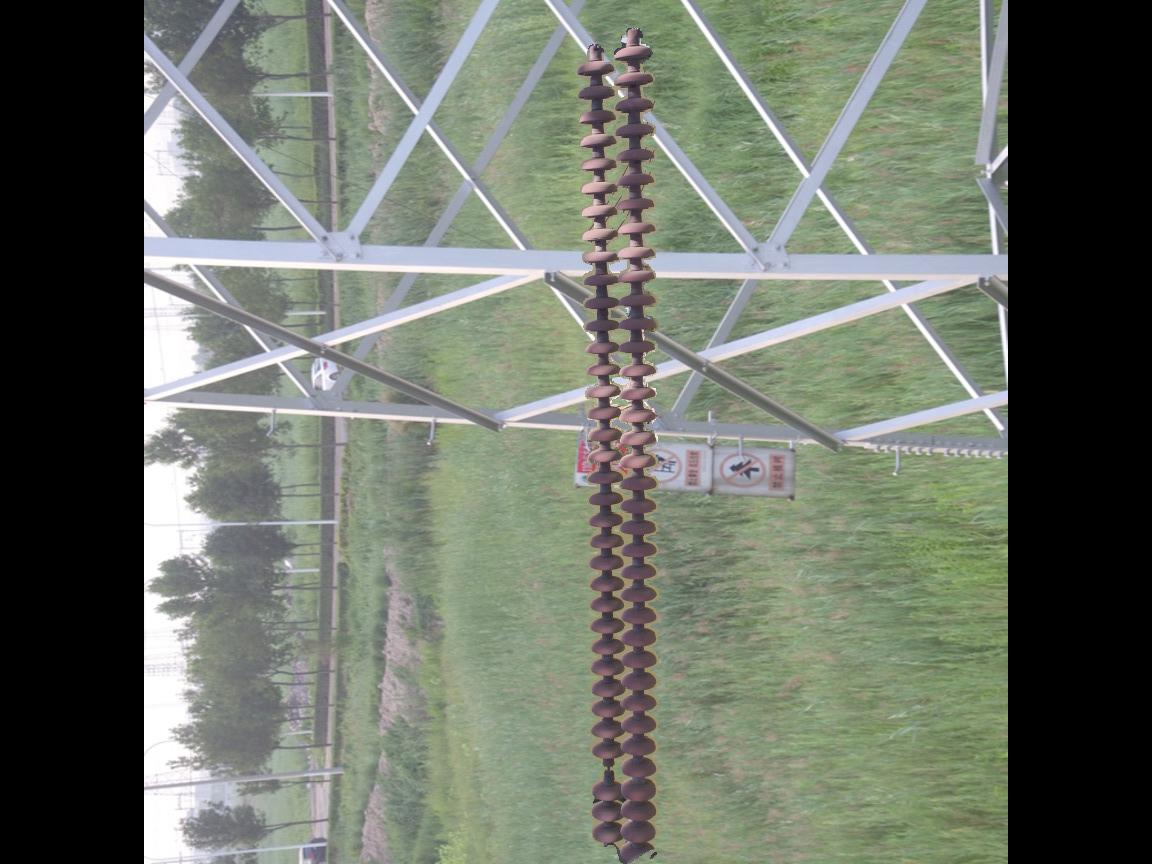insulator: (571, 38, 664, 864)
insulator_stringdrop: (586, 738, 626, 804)
